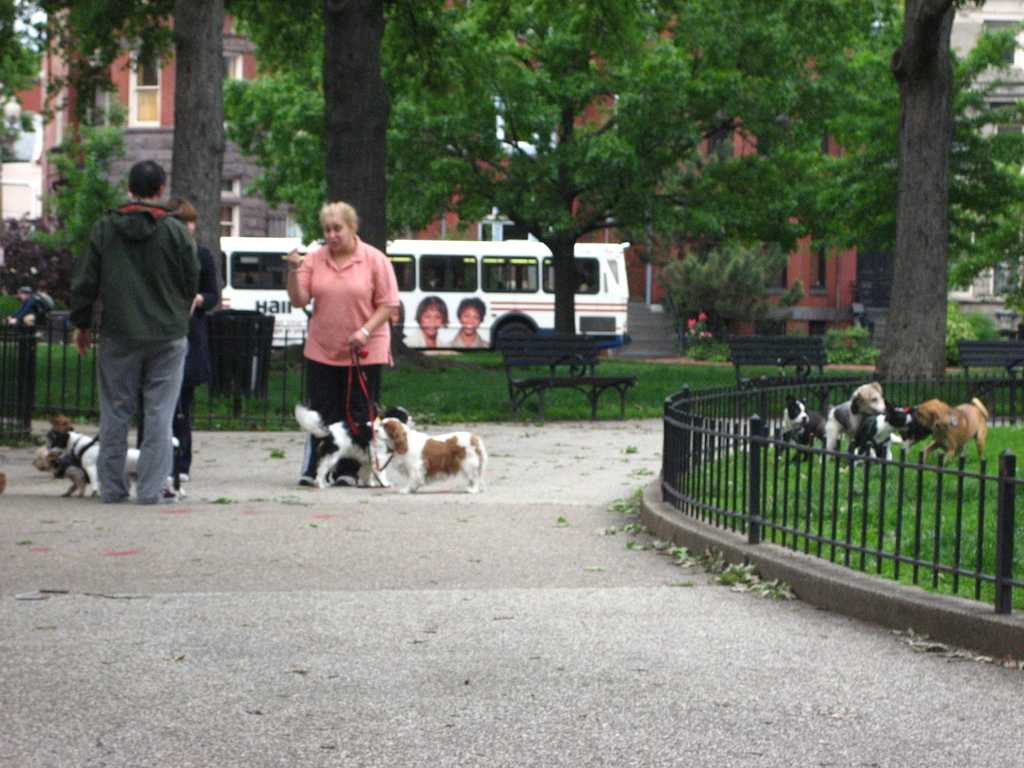Bus: (216, 236, 631, 356)
